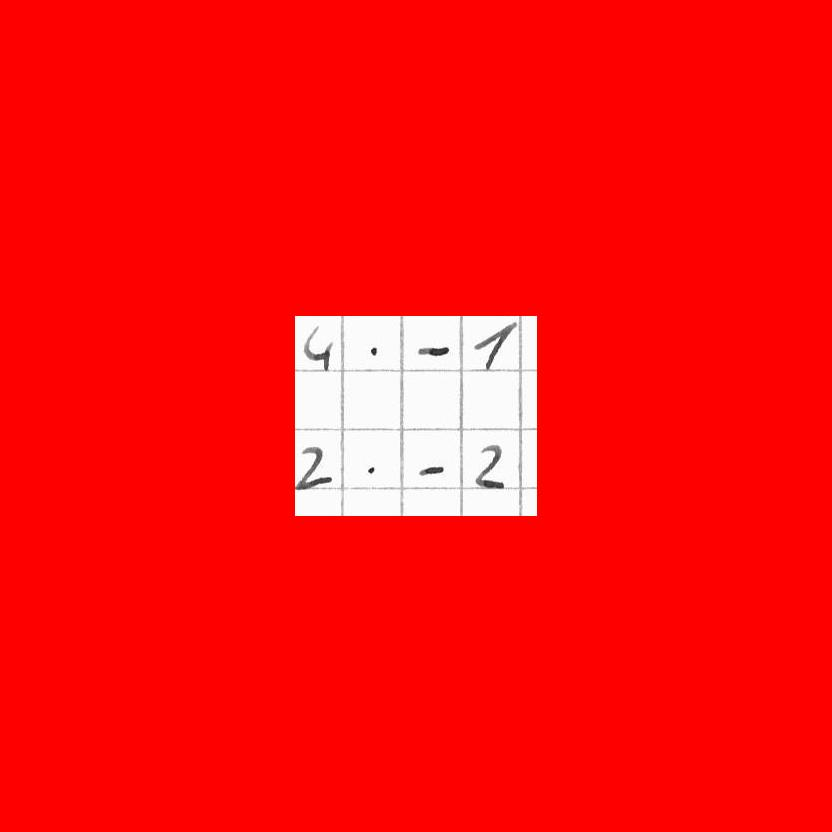Char: (475, 324, 523, 371), (294, 440, 333, 496), (470, 443, 507, 492), (300, 321, 334, 374), (415, 340, 453, 359), (418, 457, 447, 481), (361, 459, 381, 483), (363, 342, 384, 360)
